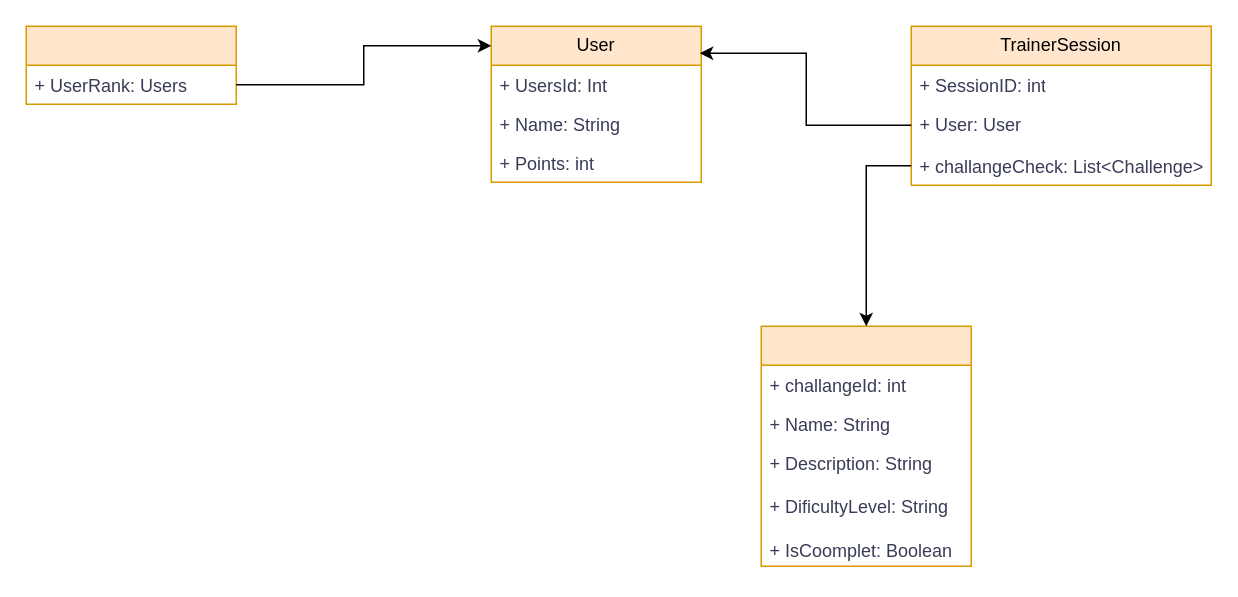
This 1238x597 diagram has some shape labels left out. The shapes that lost their labels are listed below. From the top down, each one's box as (x1, y1, x2, y2) in pixels, then its label:
(25, 25, 236, 104): LeaderBoard
(760, 325, 971, 566): Challenge
